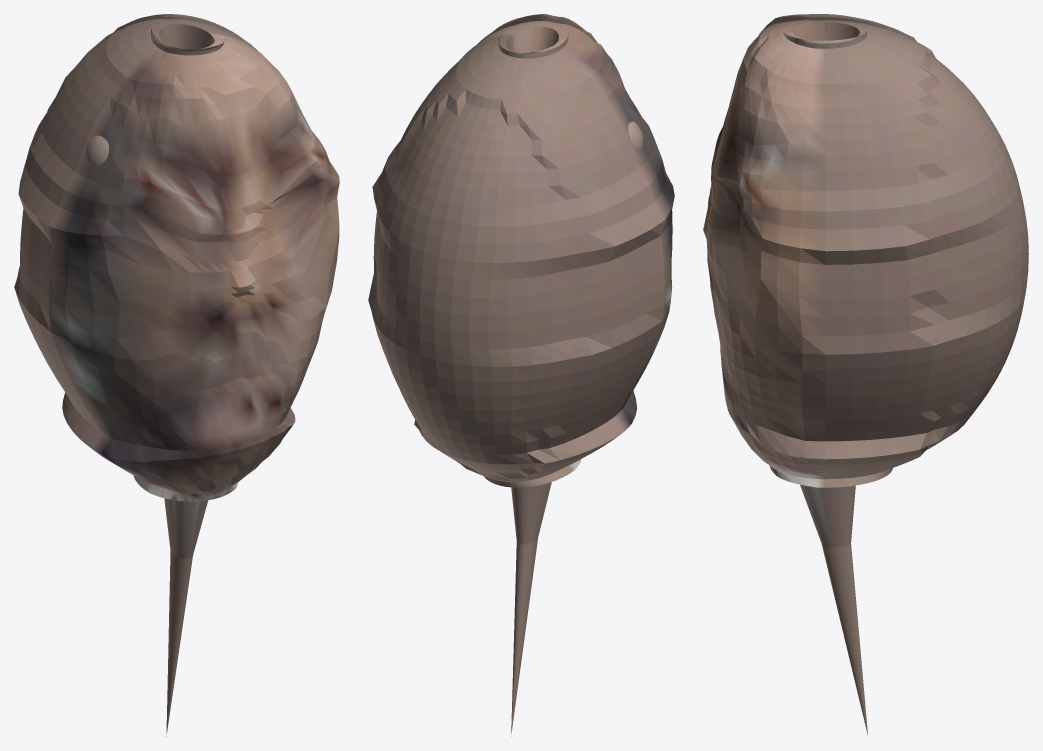
File: avatar_v2_d1e5bc2f.glb
The picture shows the model from 3 angles, left to right: view 1: azimuth 30°, elevation 25°; view 2: azimuth 150°, elevation 25°; view 3: azimuth 270°, elevation 25°; orthographic projection. The views are drawn at different scales.
Visible parts, largest first — view 1: world; view 2: world; view 3: world.
Boxes of the visible parts, x1,y1,x2,y2 form: world: (14,14,339,736); world: (368,14,674,736); world: (703,14,1028,734).
Bounding box in the file's own units: 0.0853 × 0.2129 × 0.0884.
